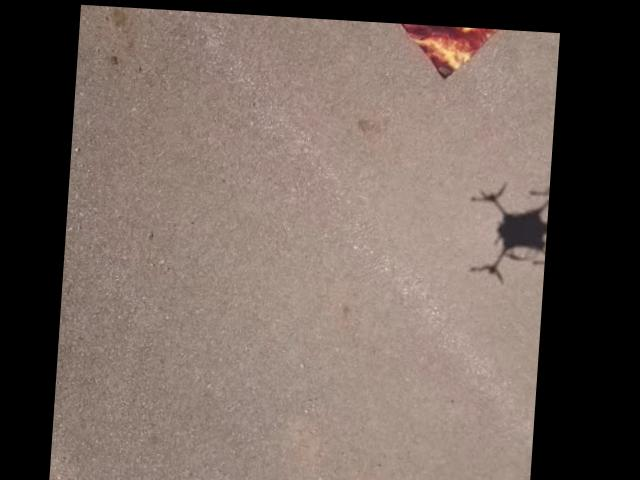fire-poster: (374, 18, 529, 79)
